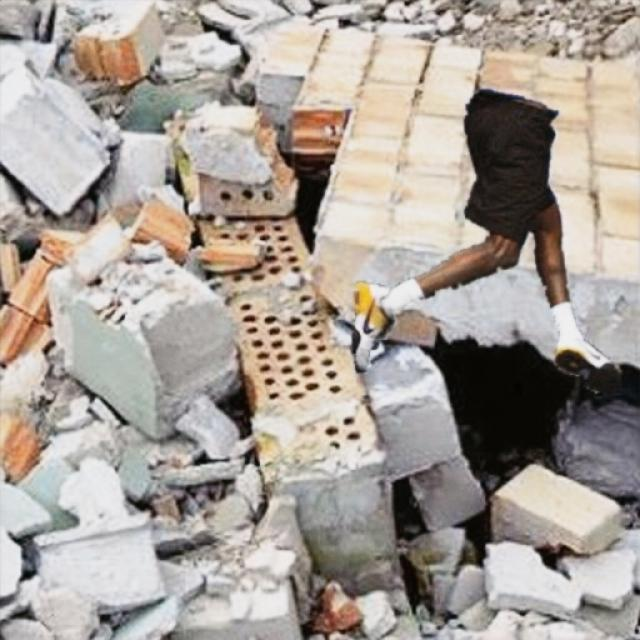Person in Rubble: (351, 89, 620, 394)
